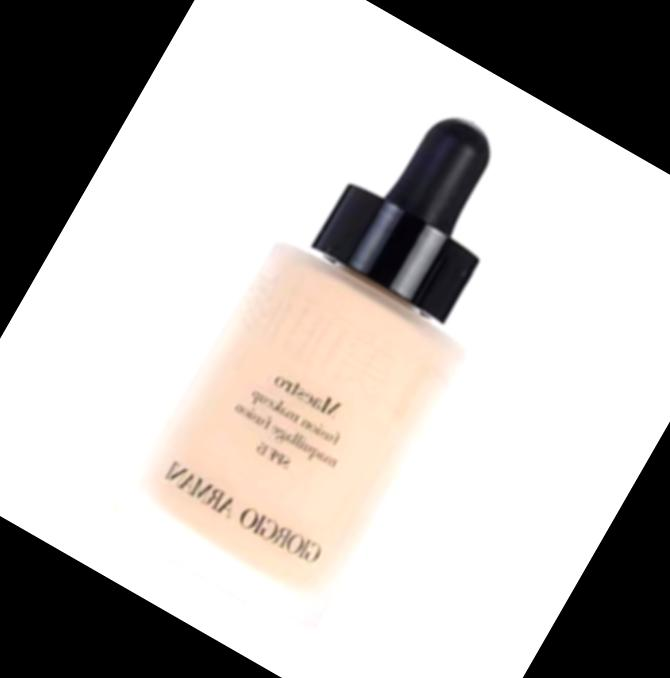cosmetic: (110, 63, 577, 635)
